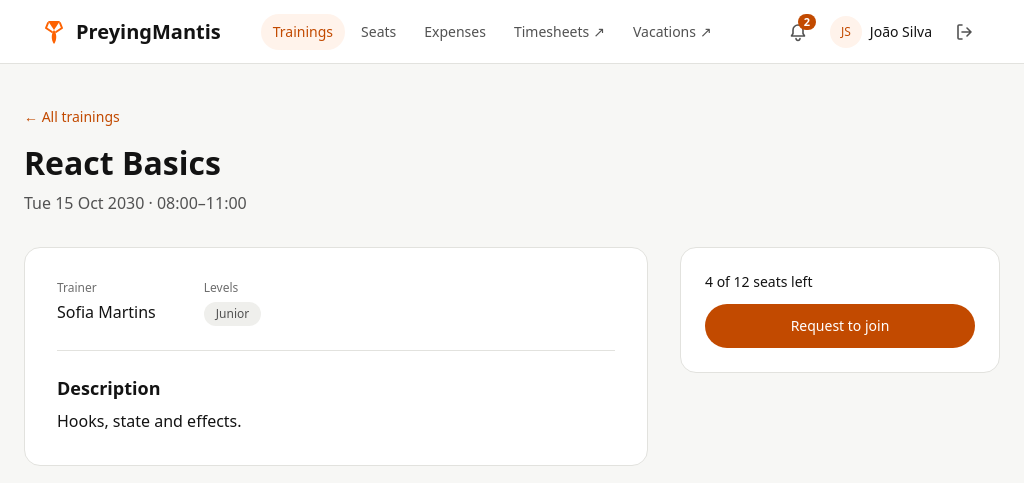
Test: join button › shows a clear message for a 409 {"code":"training_full","message":"This training is full"}
This screenshot has width=1024, height=483.
Click the button "Request to join". click: (840, 326)
box: [705,304,975,348]
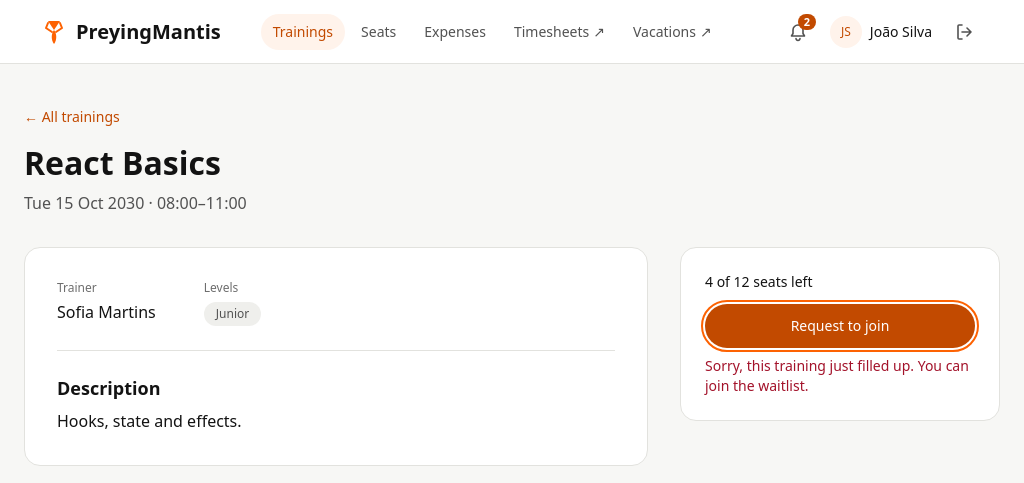
Check: the message reads "Sorry, this training just filled up. You can join the waitlist.", box [705,356,969,395]
